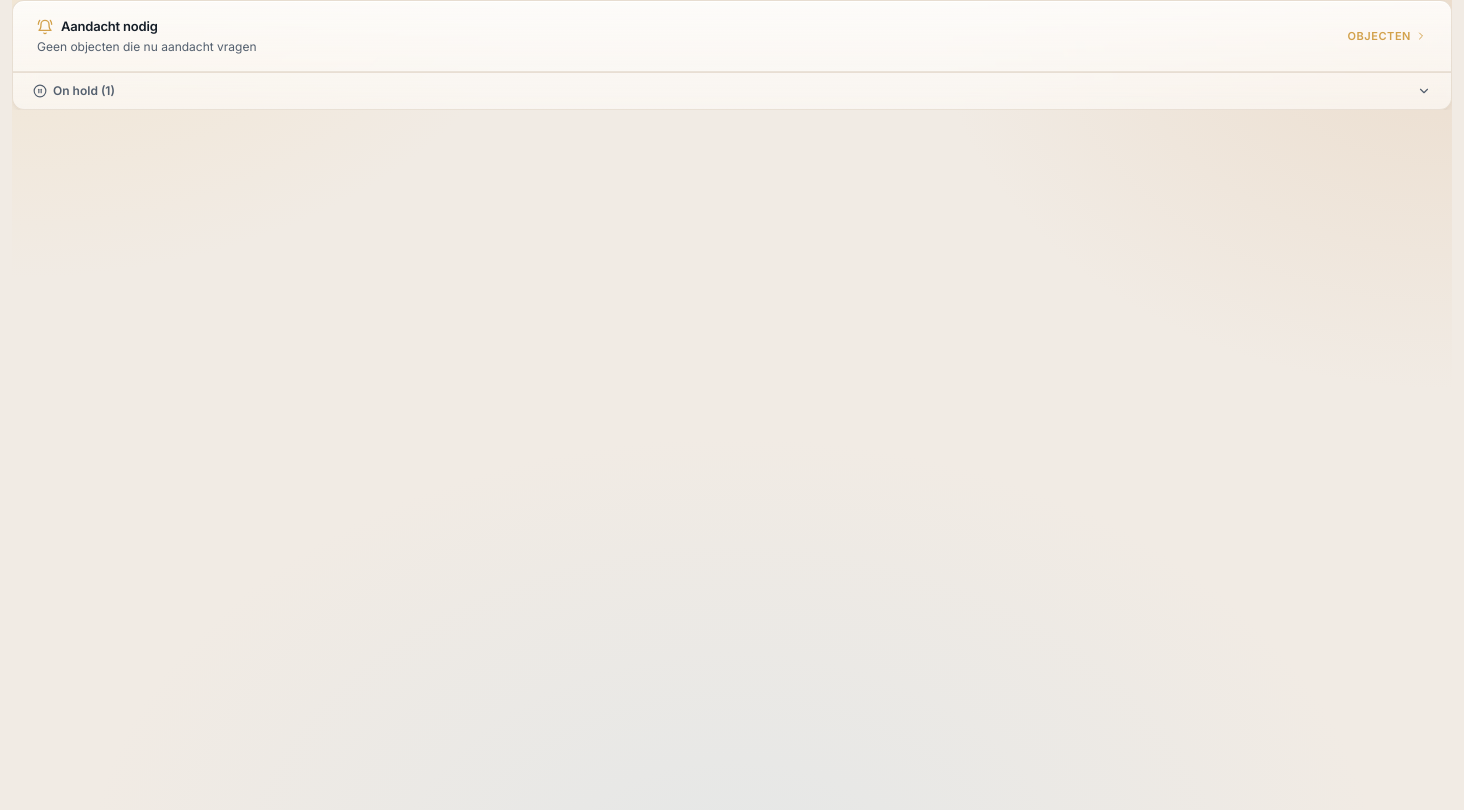
DashboardAandacht › on hold staat apart en ingeklapt
This screenshot has width=1464, height=810.
Click the button "On hold (1)" at (84, 90), box [13,72,1451,108]
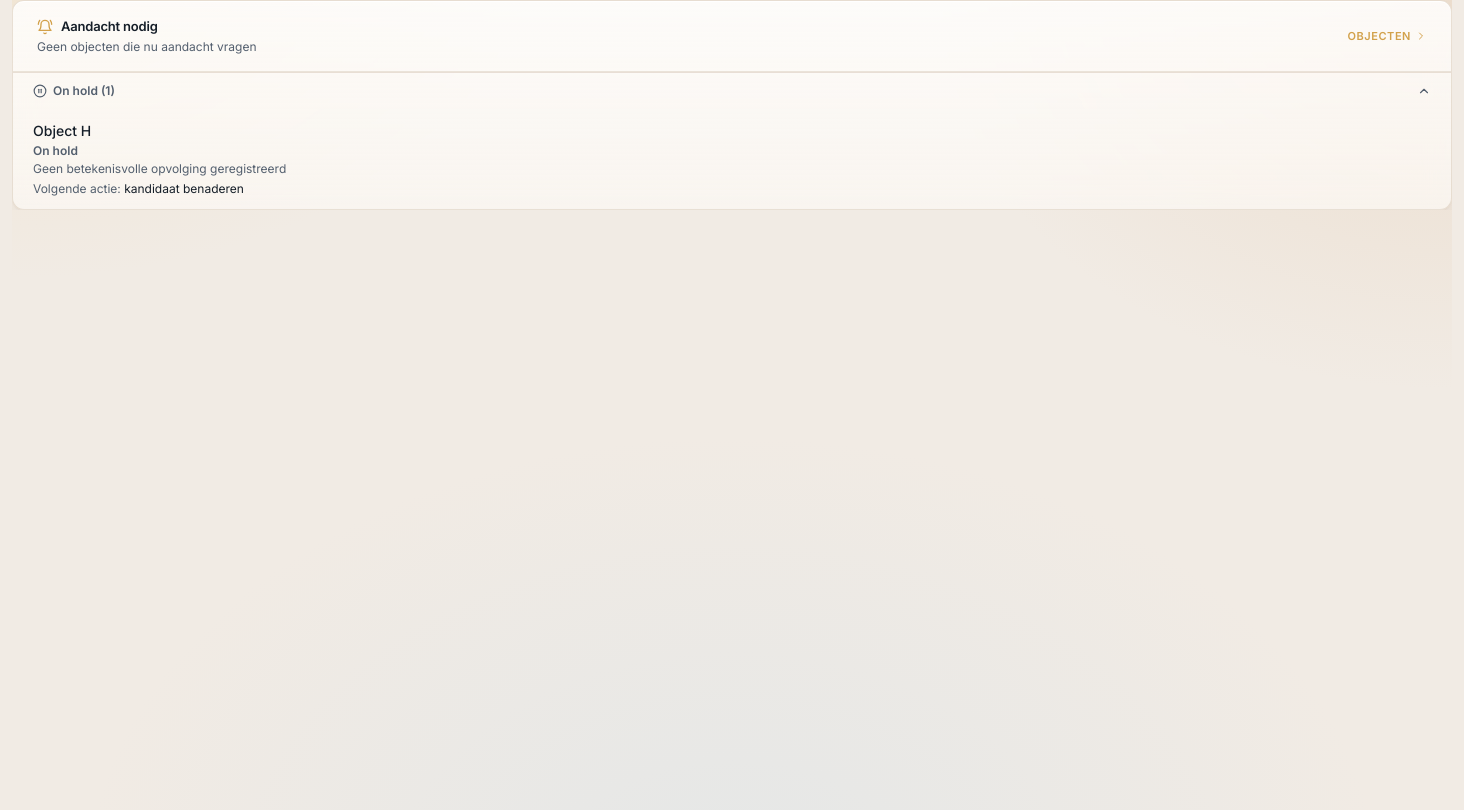
Check: the element with test id "aandacht-on-hold" is shown, box [33,122,286,196]
